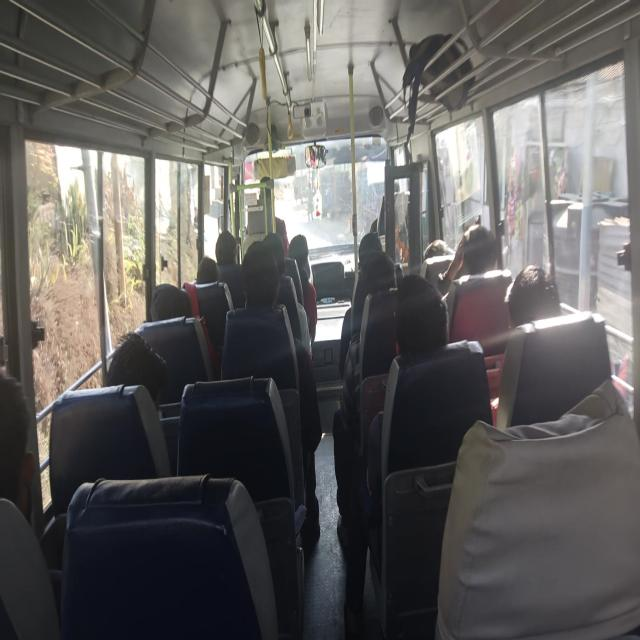person: (0, 360, 40, 530), (105, 335, 174, 413), (500, 255, 559, 322), (381, 295, 434, 360), (453, 220, 497, 286), (242, 242, 280, 313), (154, 271, 200, 323), (213, 225, 252, 281), (368, 249, 408, 299), (267, 220, 296, 271), (197, 245, 228, 289), (287, 224, 314, 262), (359, 226, 383, 256), (419, 238, 443, 265)
